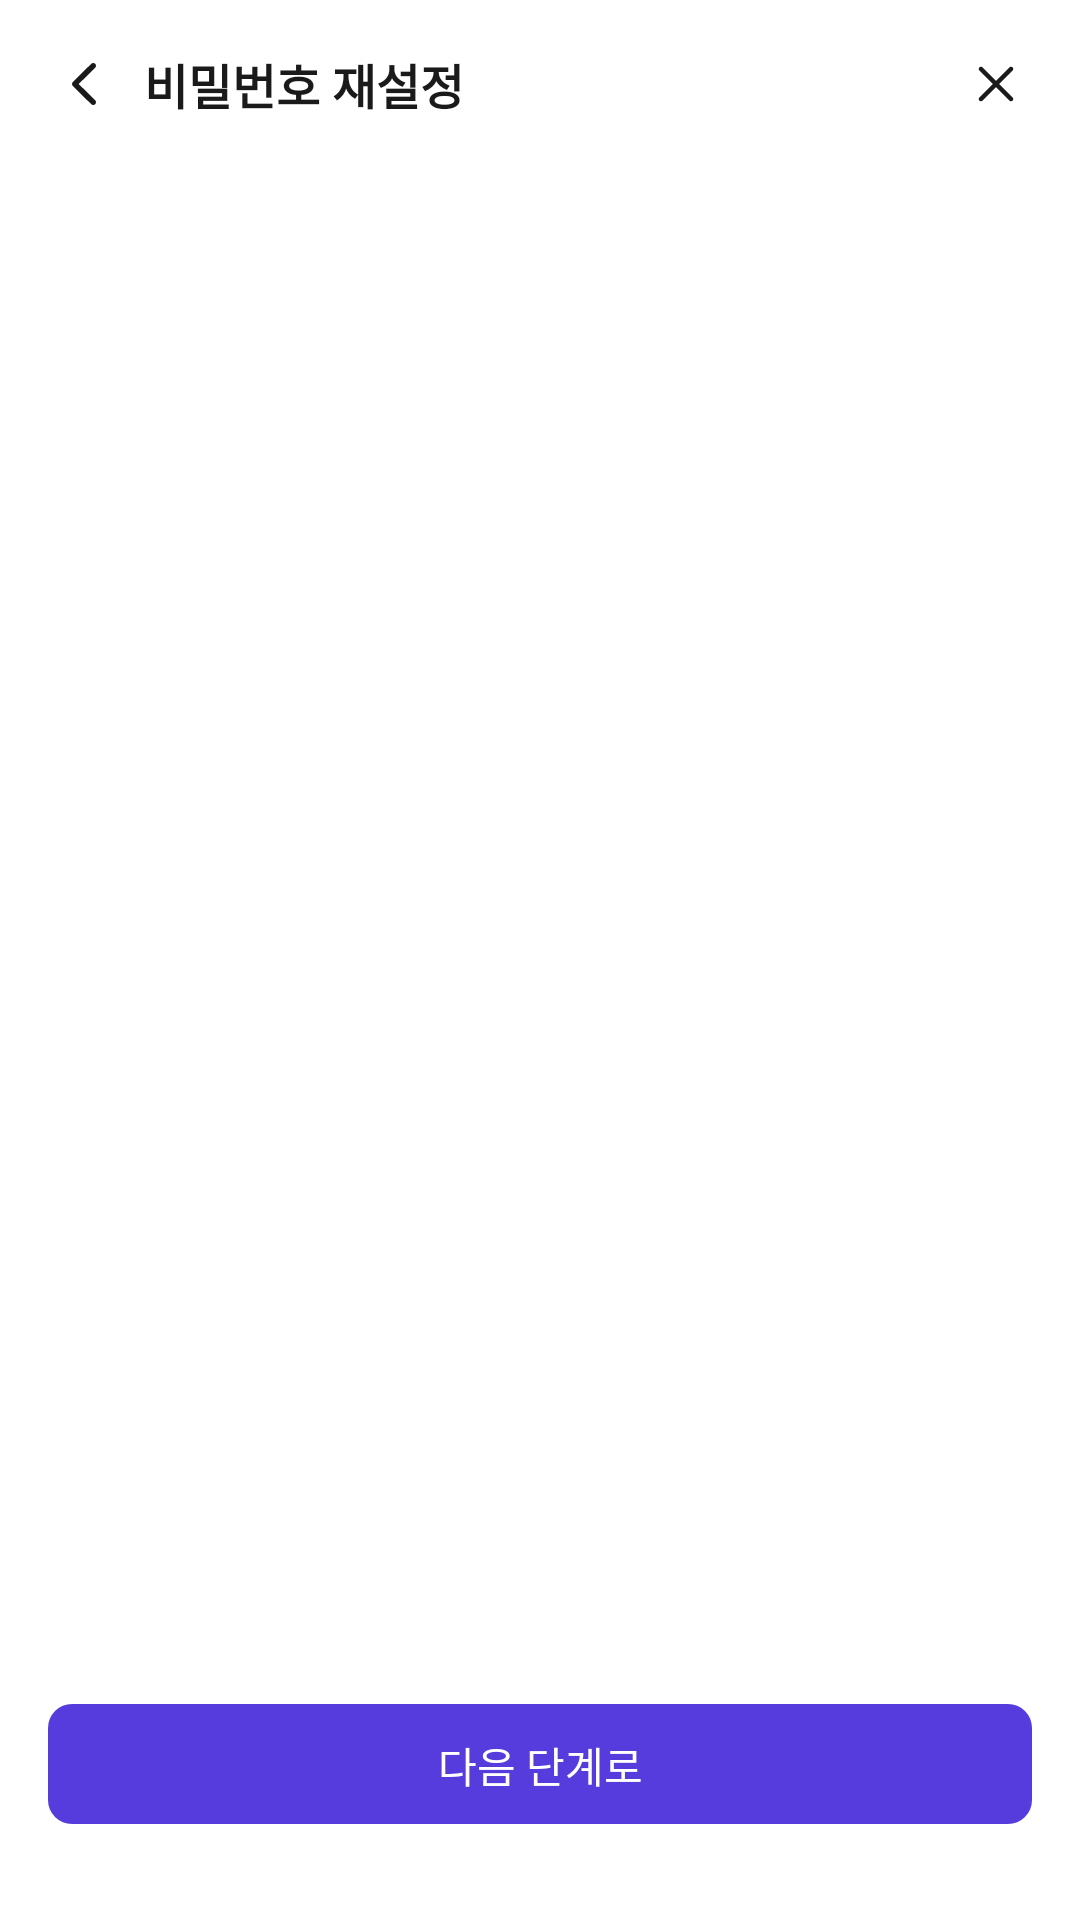

Point at icon controls on the screen. Image size 1080px x 1920px, points as [x,y].
back: [84,84]
cancel: [996,84]
